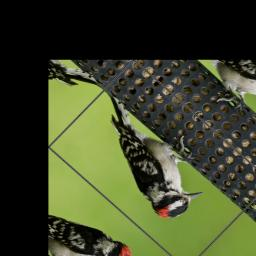Woodpecker: (70, 84, 225, 229)
